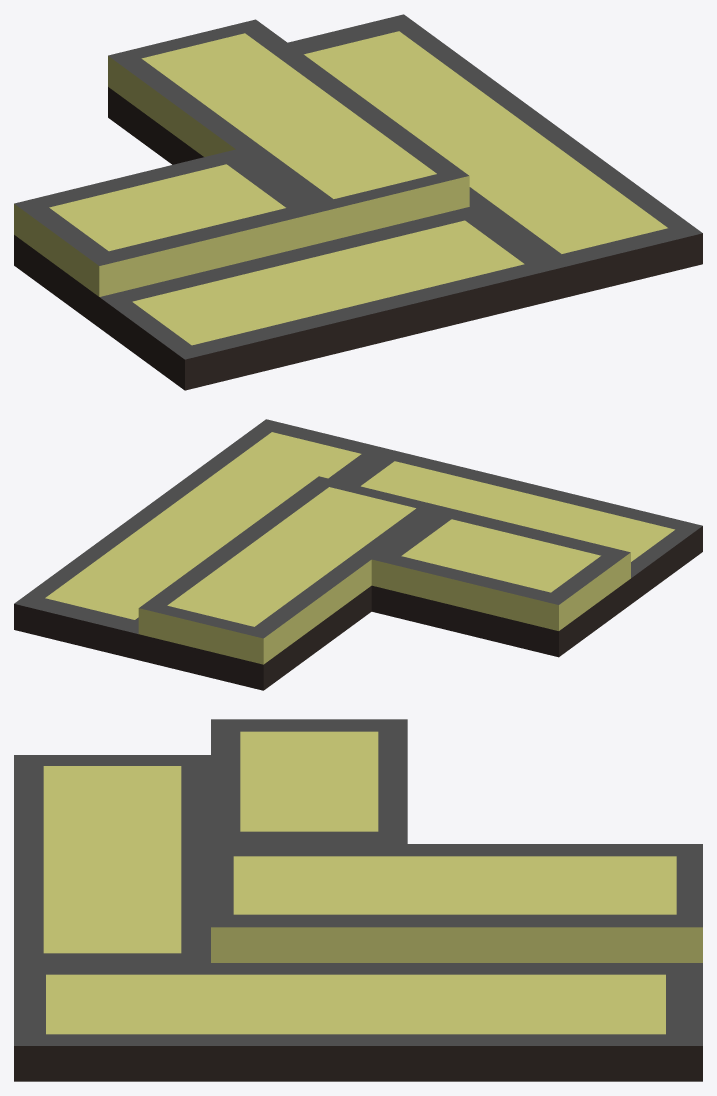
The model's file is Corner Stairs.fbx.
3 renders of one model, top to bottom at view 1: azimuth 30°, elevation 25°; view 2: azimuth 150°, elevation 25°; view 3: azimuth 270°, elevation 25°, orthographic. The views are drawn at different scales.
Parts seen in each view (by area): view 1: Corner Stairs; view 2: Corner Stairs; view 3: Corner Stairs.
Boxes of the visible parts, x1,y1,x2,y2 form: Corner Stairs: (14, 14, 702, 390); Corner Stairs: (14, 419, 702, 690); Corner Stairs: (14, 719, 702, 1081).
Bounding box in the file's own units: 3500 × 400 × 3500.
